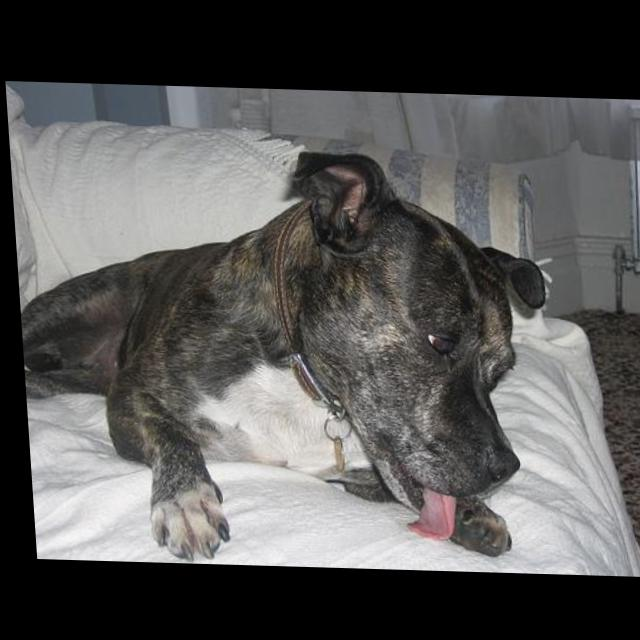staffford: (8, 143, 562, 570)
